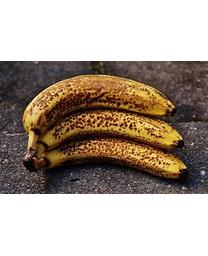banana: (20, 74, 189, 179)
